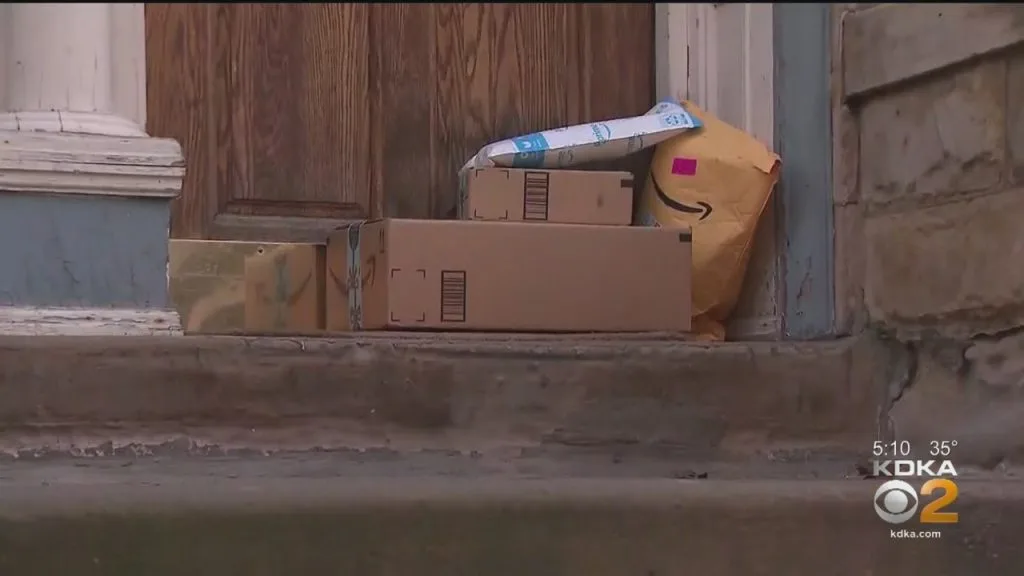package: (323, 218, 707, 341), (456, 158, 637, 228), (231, 242, 328, 342)
